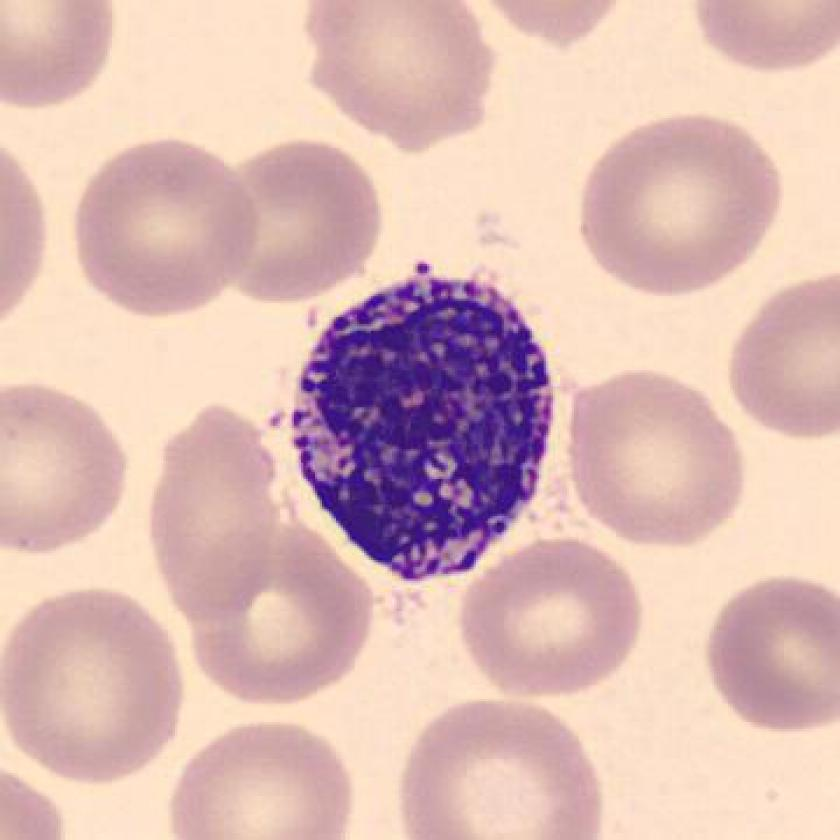basophil: (290, 256, 561, 598)
